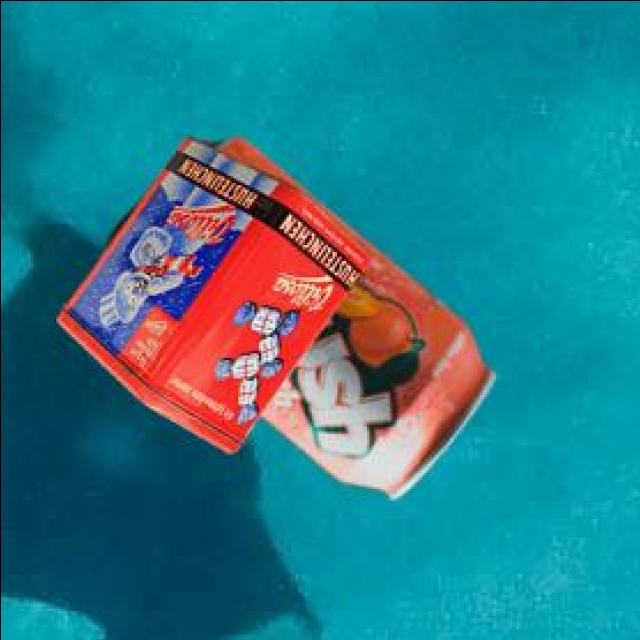logam: (108, 139, 498, 503), (61, 139, 376, 455)
